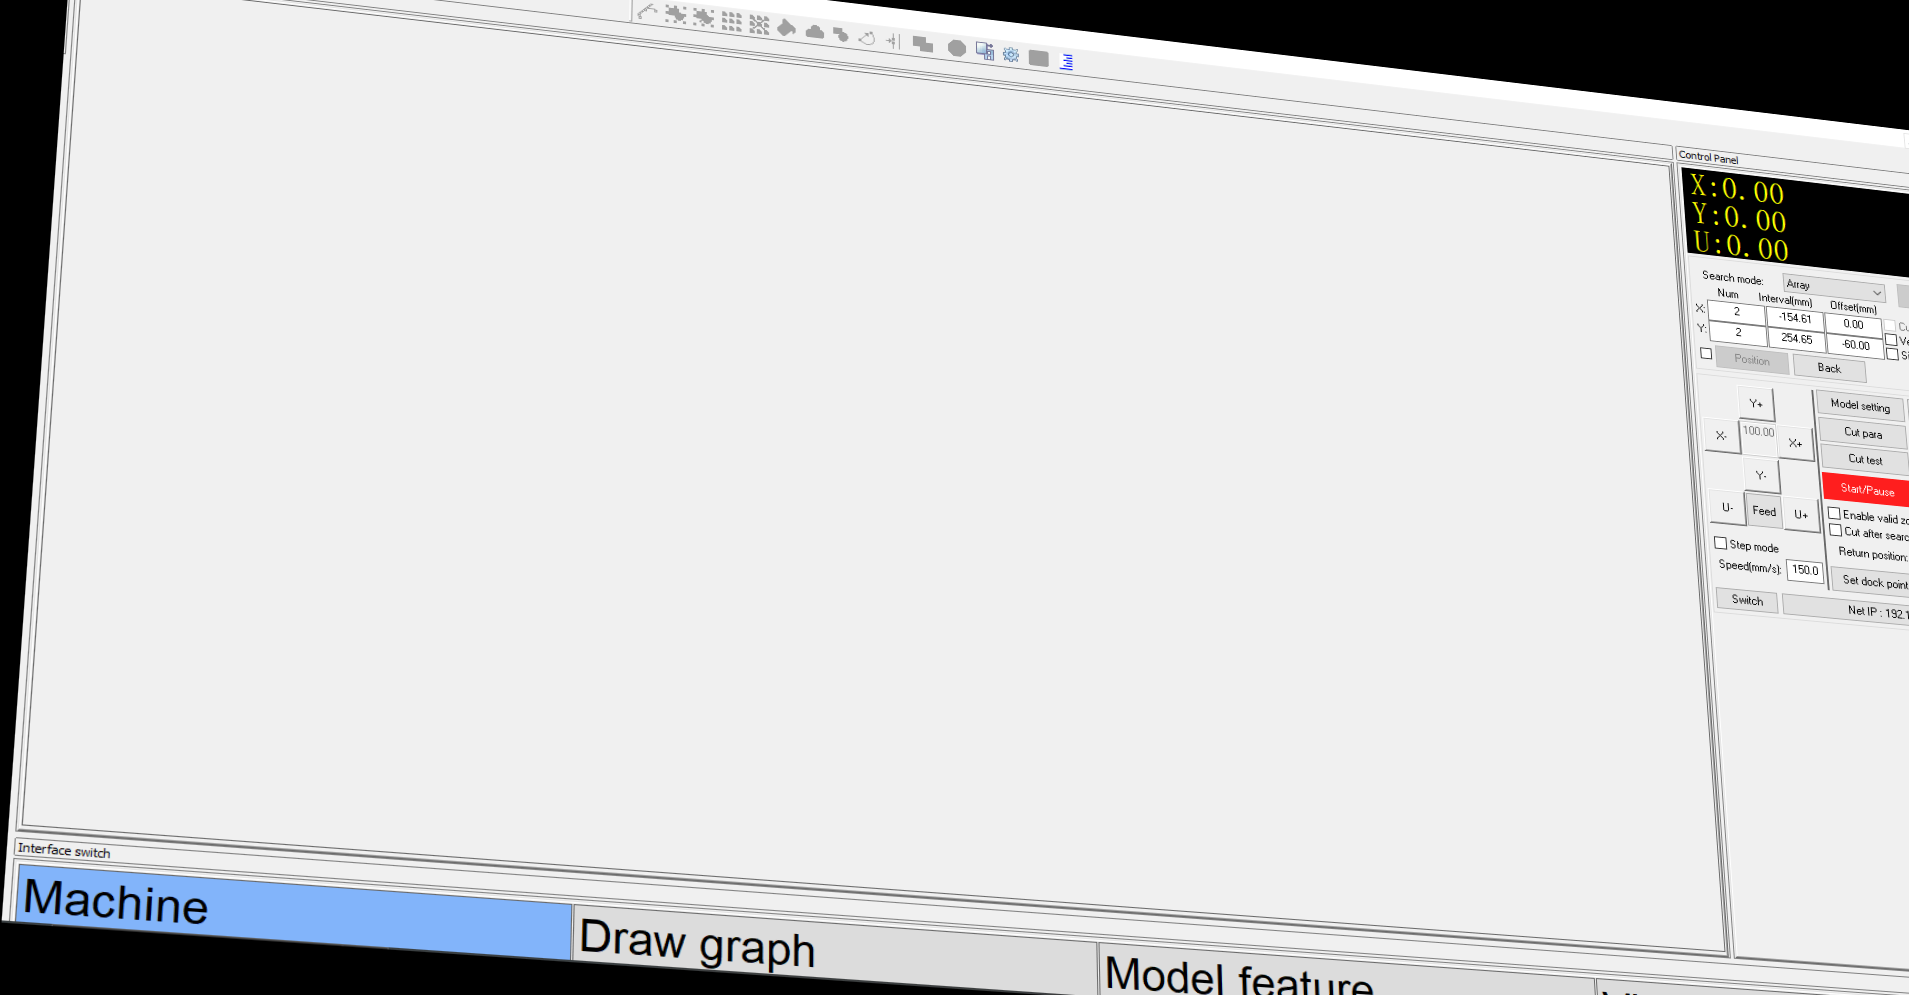start: (1819, 471, 1909, 506)
timer: (1822, 297, 1886, 359)
